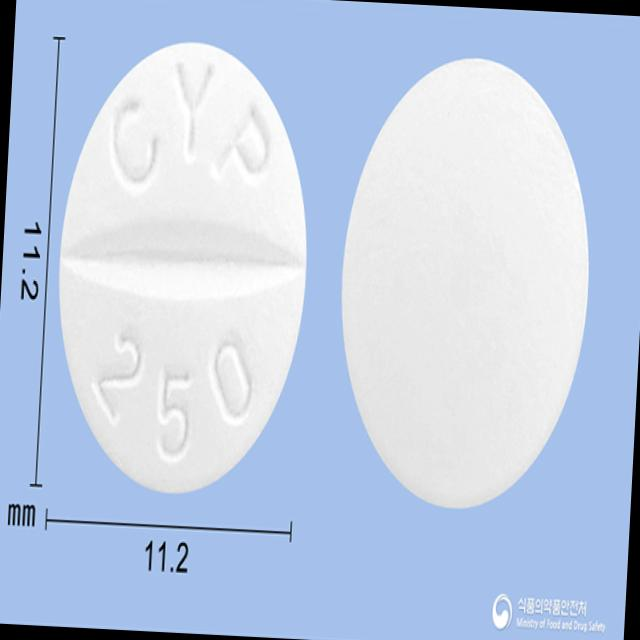Cypro: (46, 29, 319, 502), (329, 49, 601, 516)
